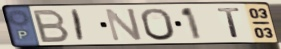1: (180, 7, 204, 41)
B: (32, 8, 72, 44)
I: (71, 8, 86, 43)
N: (103, 7, 145, 44)
O: (139, 7, 178, 42)
T: (215, 7, 244, 40)
